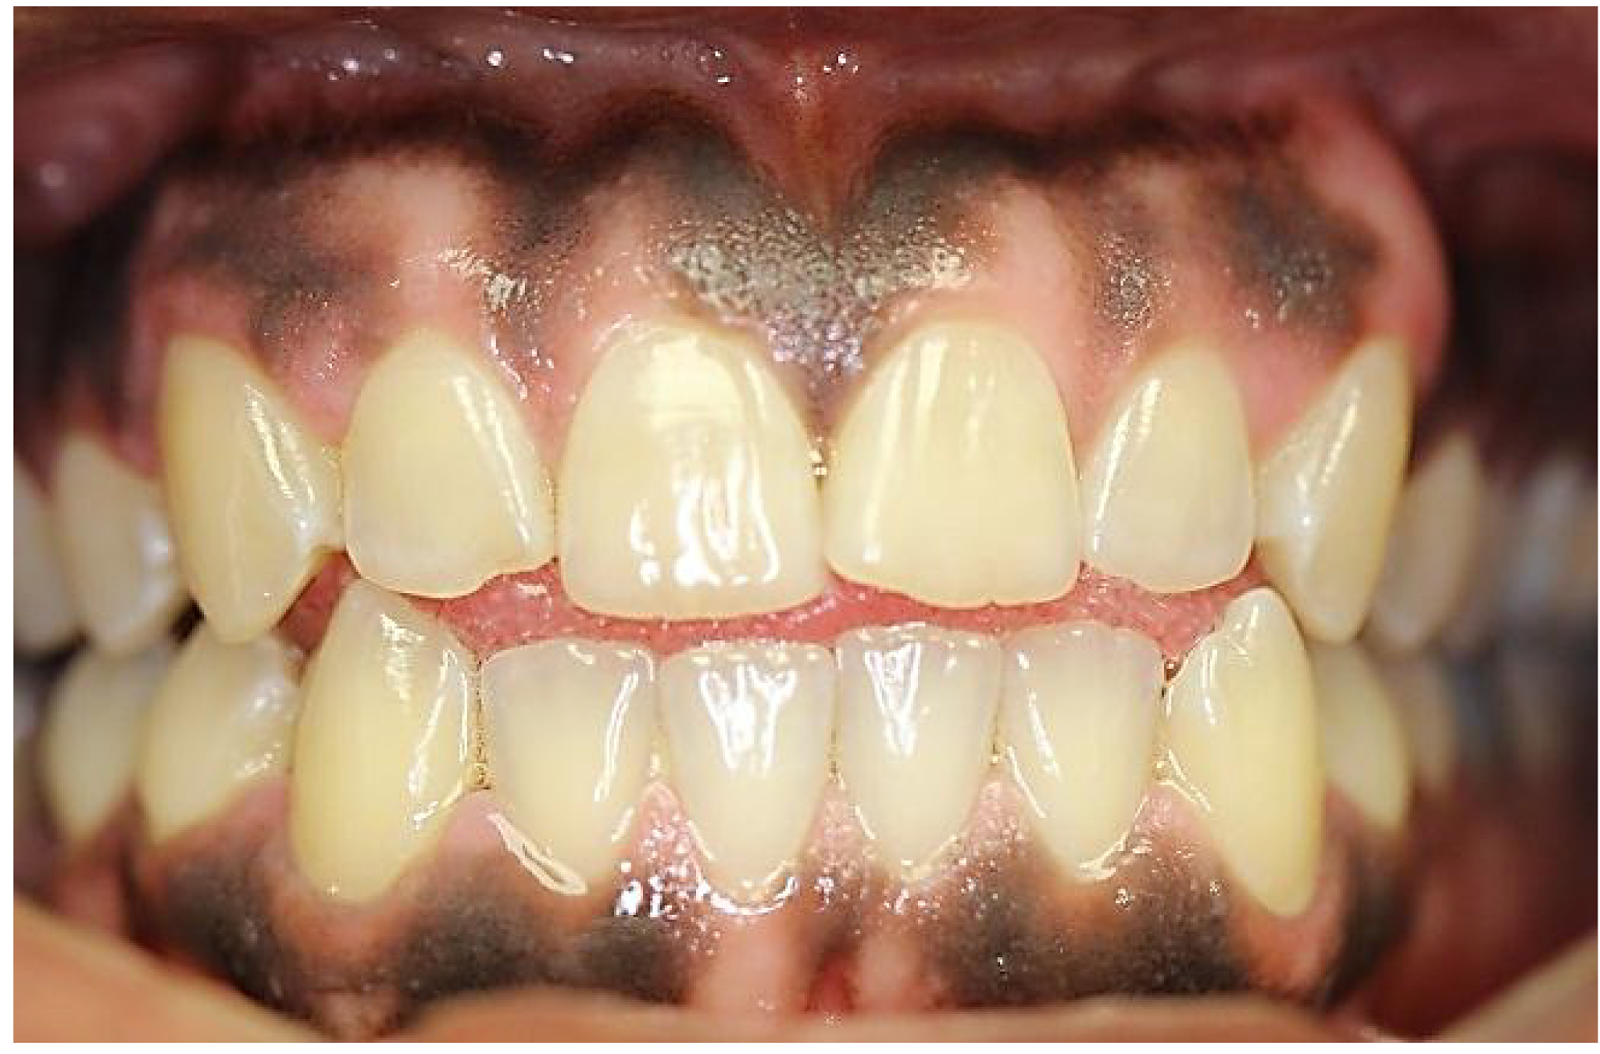LLCI_healthy: (832, 623, 1002, 888)
LLC_healthy: (1166, 578, 1327, 925)
LLLI_healthy: (1004, 613, 1165, 890)
LR1BC_healthy: (128, 628, 307, 852)
LRCI_healthy: (655, 629, 838, 922)
LRC_healthy: (289, 586, 476, 910)
LRLI_healthy: (479, 640, 656, 894)
ULCI_healthy: (827, 322, 1082, 613)
ULC_healthy: (1247, 336, 1431, 646)
ULLI_healthy: (1079, 322, 1255, 598)
UR1BC_healthy: (46, 423, 188, 660)
URCI_healthy: (556, 319, 827, 622)
URC_healthy: (153, 328, 340, 643)
URLI_healthy: (341, 323, 556, 601)
